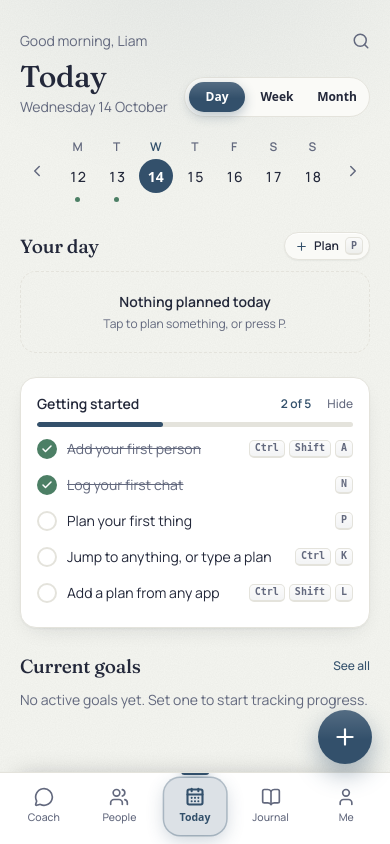
Test: kept chat reviews on the Journal › an older analysis keeps its scores without a review to open; one without scores is dropped, and its log stays
This screenshot has width=390, height=844.
Click the button "Journal" at (271, 807), box [233, 781, 308, 832]
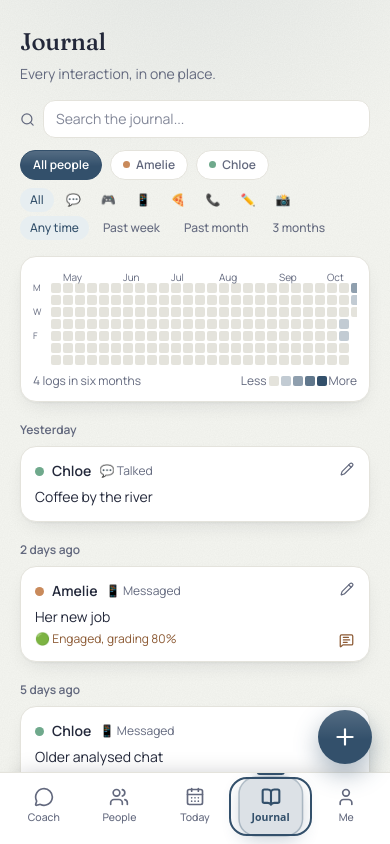
Expected: the text "🟢 Engaged, grading 80%" is shown, [35, 630, 176, 647]
Expected: the number of buttons named "Chat review: " is 1, [333, 627, 360, 654]
